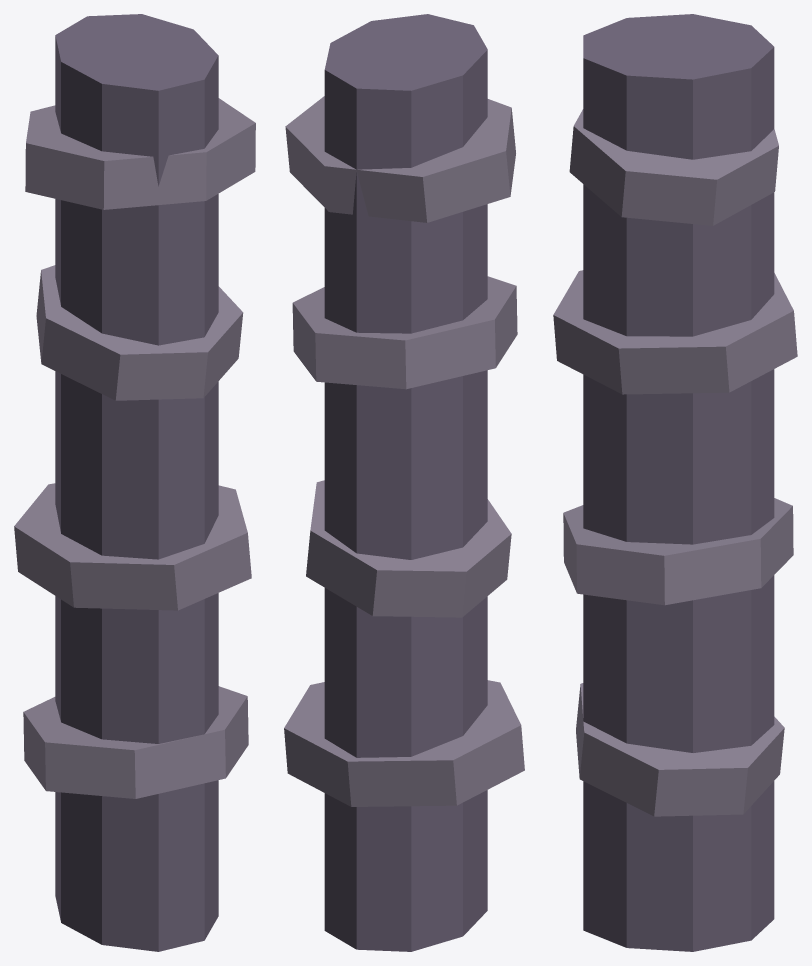
Rendered from rock_pillar.glb.
3 renders of one model, left to right at view 1: azimuth 30°, elevation 25°; view 2: azimuth 150°, elevation 25°; view 3: azimuth 270°, elevation 25°, orthographic.
Parts seen in each view (by area): view 1: Cylinder, Cylinder.002, Cylinder.004, Cylinder.001, Cylinder.003; view 2: Cylinder, Cylinder.001, Cylinder.004, Cylinder.003, Cylinder.002; view 3: Cylinder, Cylinder.003, Cylinder.002, Cylinder.001, Cylinder.004.
Boxes of the visible parts, left/top/right/bottom form: Cylinder: left=55, top=14, right=218, bottom=951; Cylinder.002: left=14, top=483, right=251, bottom=610; Cylinder.004: left=25, top=98, right=255, bottom=209; Cylinder.001: left=23, top=686, right=248, bottom=798; Cylinder.003: left=36, top=265, right=243, bottom=400; Cylinder: left=324, top=14, right=487, bottom=951; Cylinder.001: left=284, top=680, right=524, bottom=806; Cylinder.004: left=285, top=96, right=515, bottom=222; Cylinder.003: left=292, top=276, right=517, bottom=389; Cylinder.002: left=306, top=480, right=511, bottom=617; Cylinder: left=583, top=14, right=774, bottom=951; Cylinder.003: left=553, top=270, right=797, bottom=394; Cylinder.002: left=563, top=498, right=793, bottom=605; Cylinder.001: left=576, top=683, right=784, bottom=816; Cylinder.004: left=569, top=109, right=778, bottom=225.
Bounding box in the file's own units: 5.65 × 22 × 5.58.
